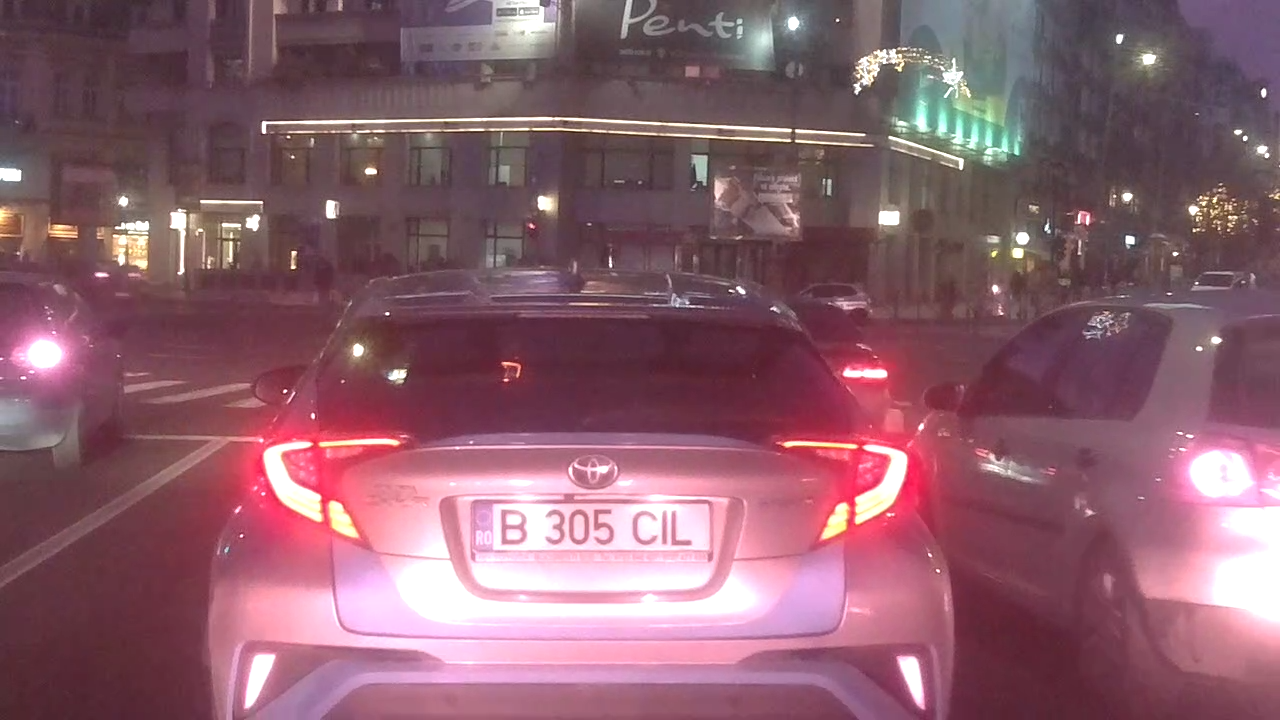license-plate: (464, 497, 716, 558)
